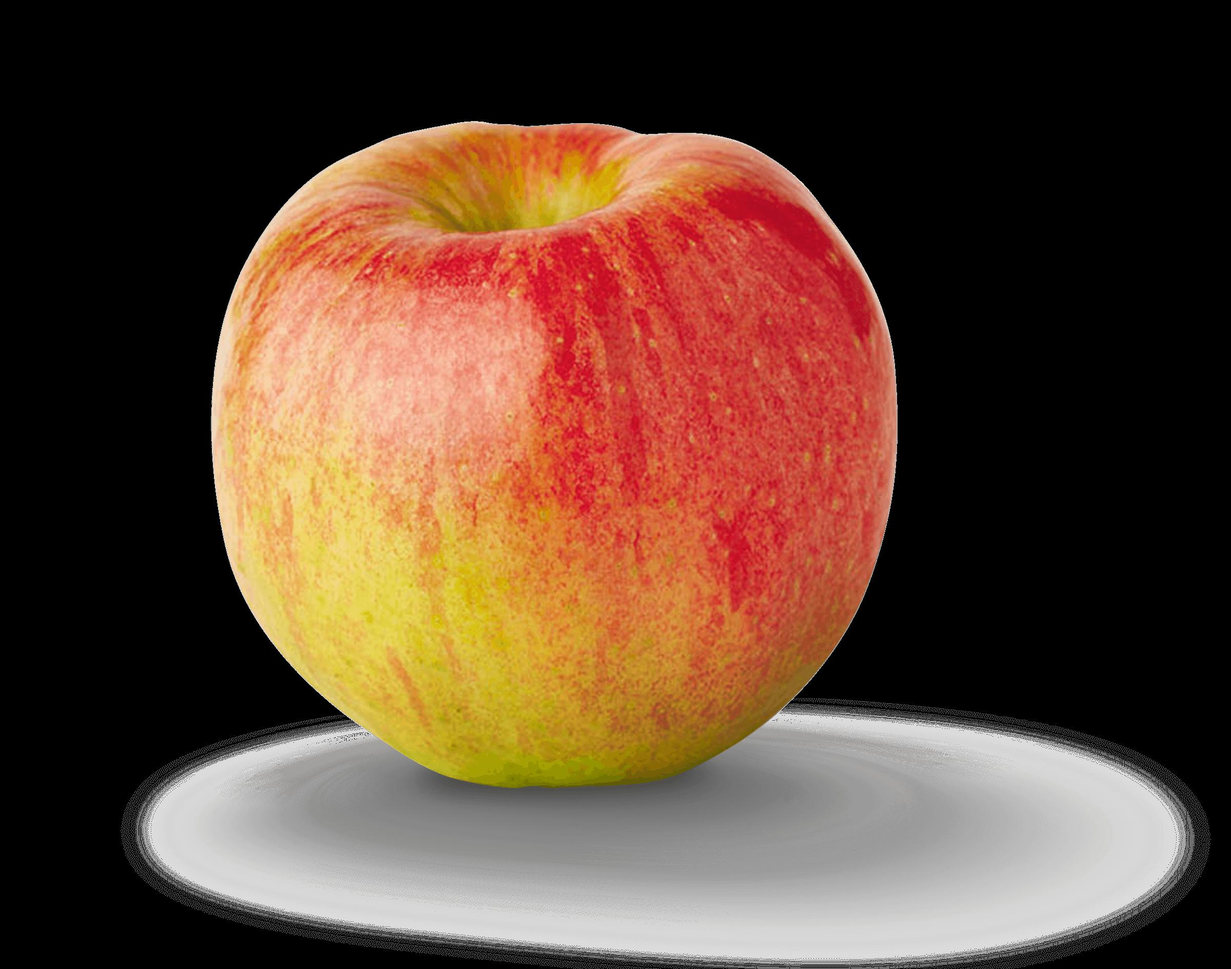apple: (201, 124, 903, 794)
